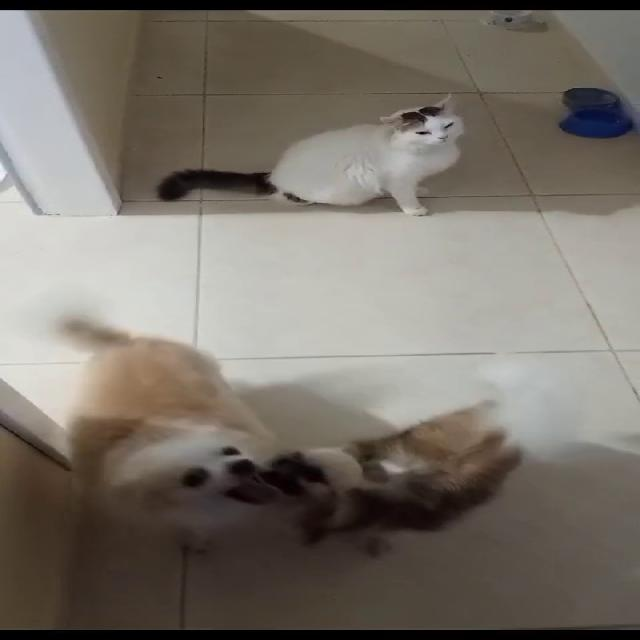Pedrita: (273, 402, 601, 562)
Simba: (161, 77, 525, 222)
Theo: (19, 286, 348, 554)
